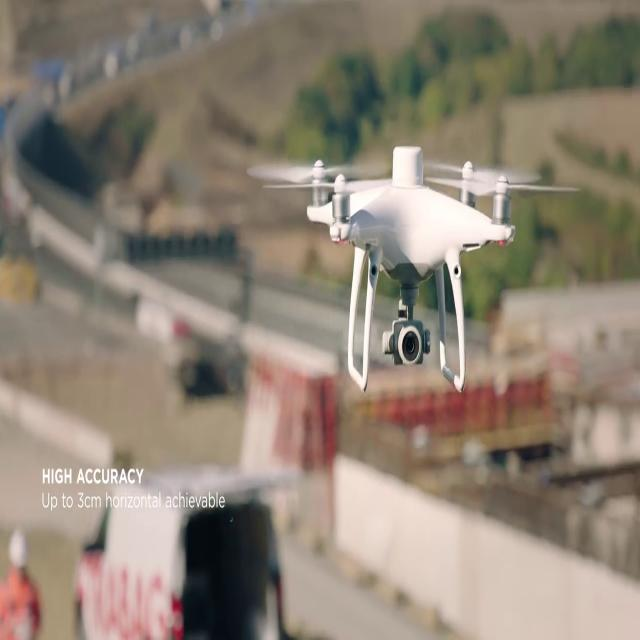drone: (245, 140, 582, 398)
